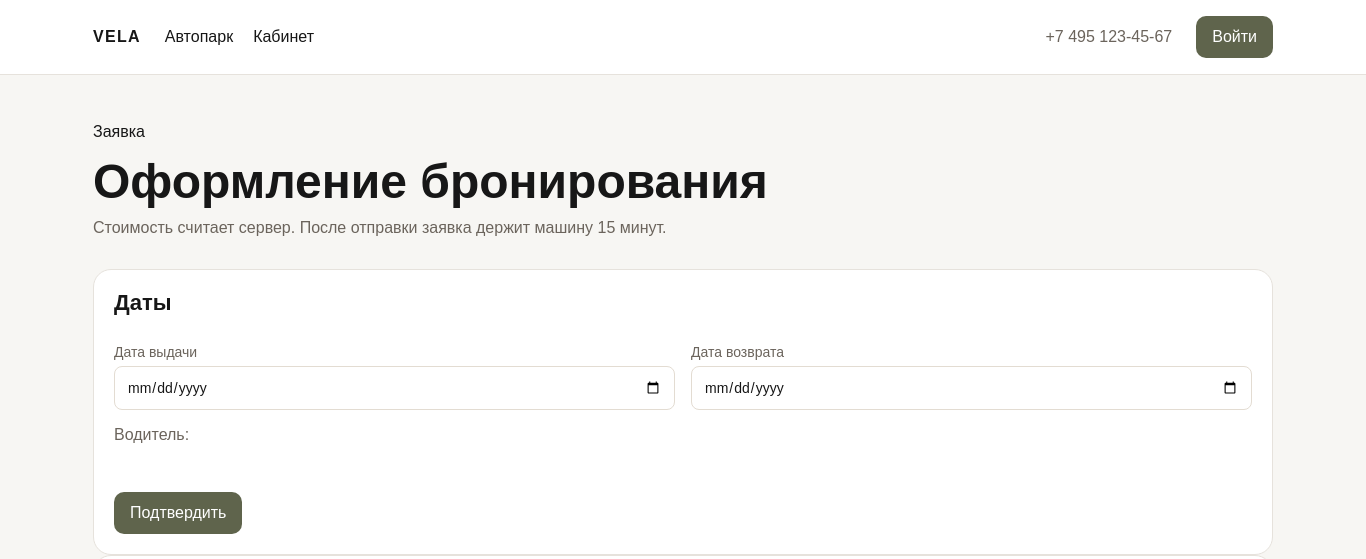
Scenario: Бронирование › показывает ошибку если даты не указаны
Click the button "Подтвердить" at (178,513), box left=114, top=492, right=242, bottom=534
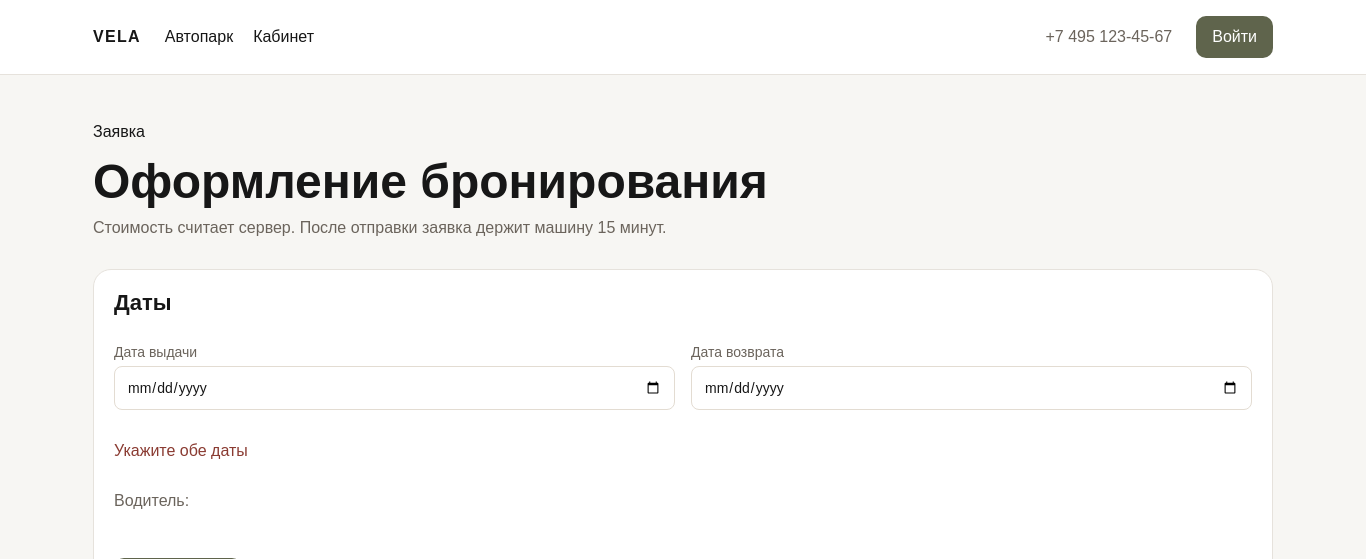
Expected: the text "Укажите обе даты" is shown, left=114, top=442, right=248, bottom=459
